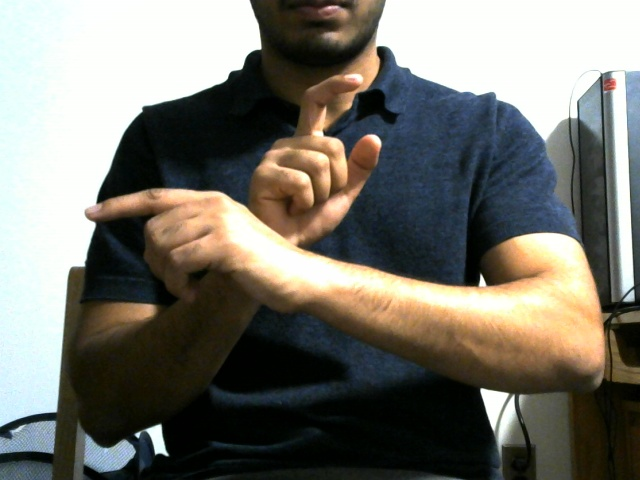call: (53, 58, 430, 339)
